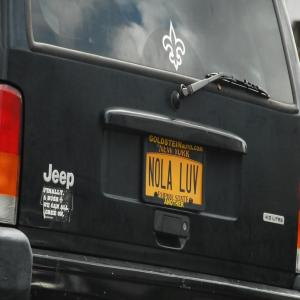Vehicle-registration-plate: (143, 135, 207, 210)
